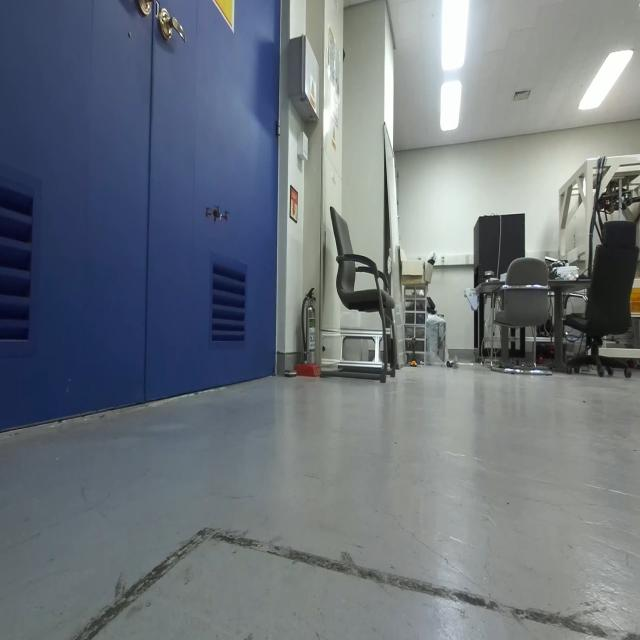crazyflie: (202, 196, 233, 233)
